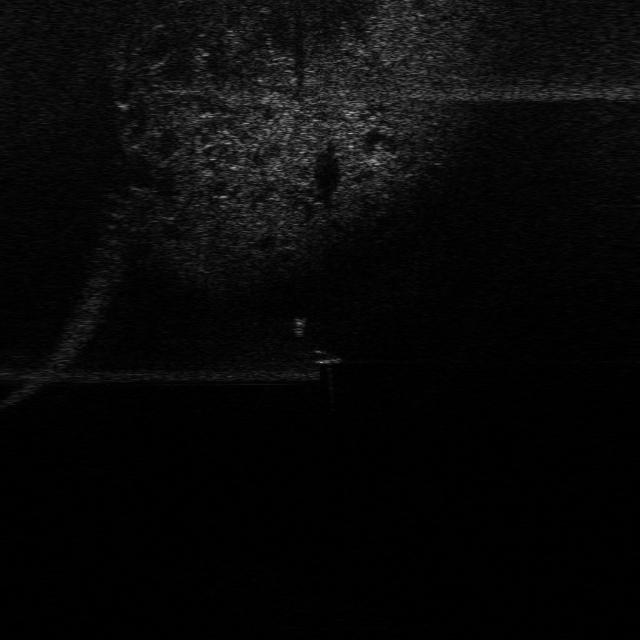cube: (307, 348, 344, 367)
cylinder: (288, 312, 308, 340)
